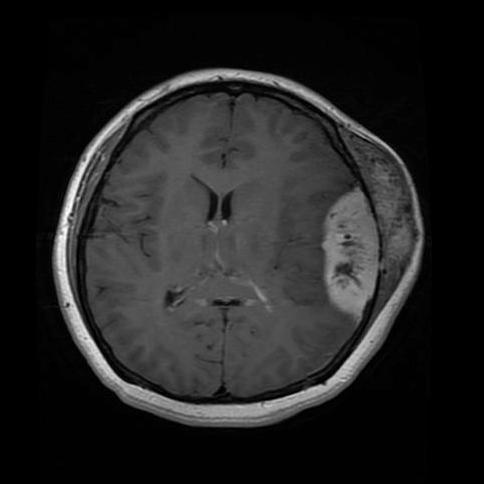Tumour-Meningioma: (312, 181, 382, 331)
